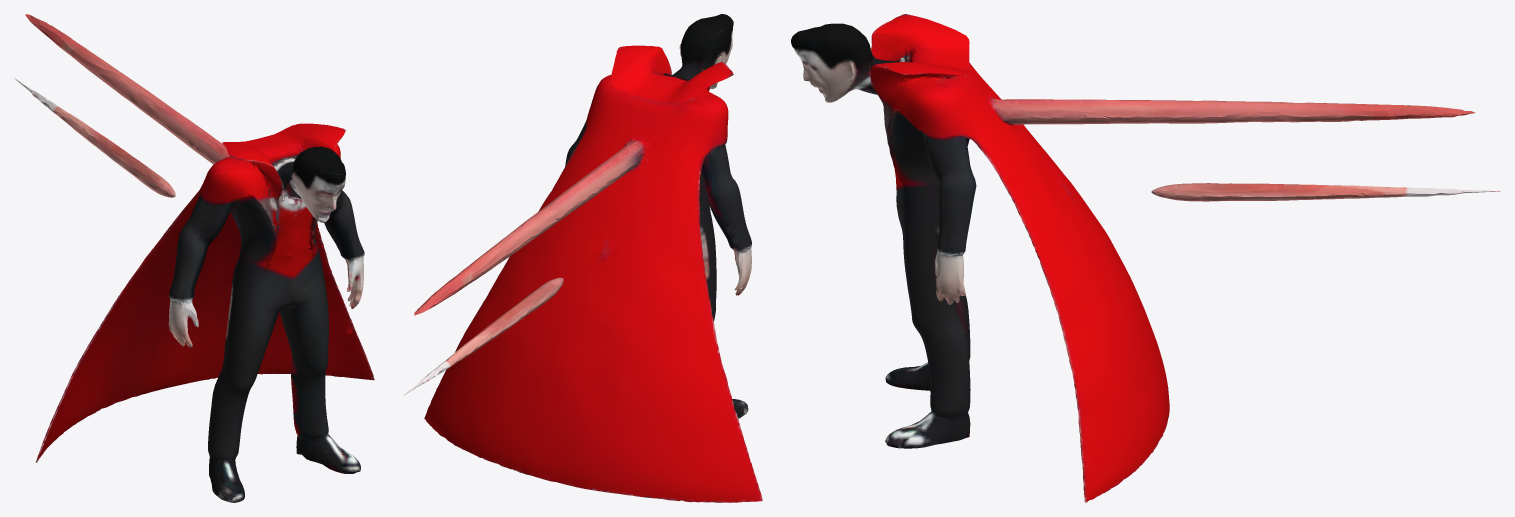
File: vampiro.glb
The picture shows the model from 3 angles, left to right: view 1: azimuth 30°, elevation 25°; view 2: azimuth 150°, elevation 25°; view 3: azimuth 270°, elevation 25°; orthographic projection. The views are drawn at different scales.
Parts seen in each view (by area): view 1: vampiro; view 2: vampiro; view 3: vampiro.
Part boxes in pixels (<box>): vampiro: <box>14,14,374,502</box>; vampiro: <box>403,14,762,502</box>; vampiro: <box>791,14,1500,502</box>.
Size of the model in its own units: 1.14 by 1.14 by 1.9.
Materials: 1 (1 with a texture image).
